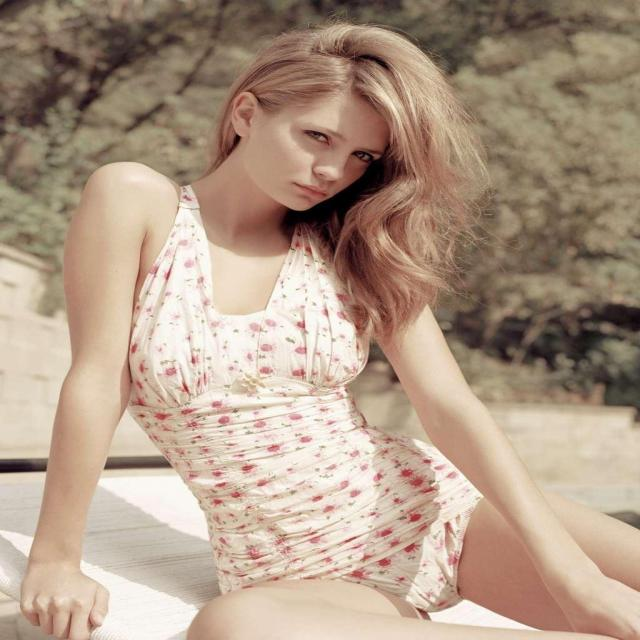no-earmuff: (230, 91, 260, 138)
